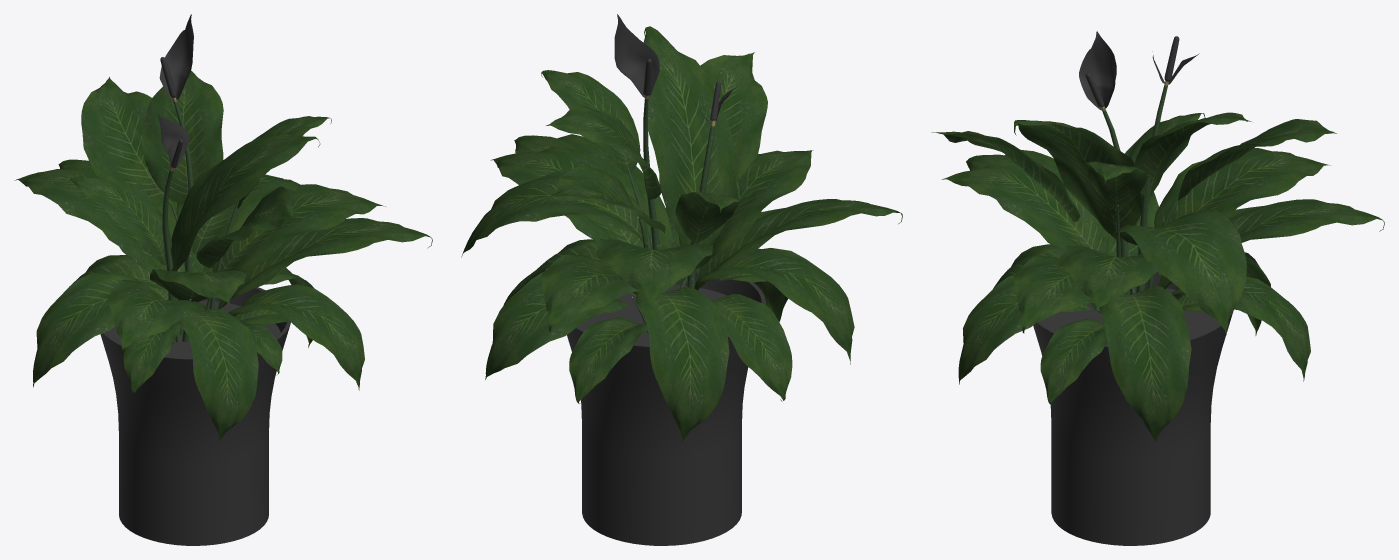
File: SM_MERGED_peaceLily.FBX
3 renders of one model, left to right at view 1: azimuth 30°, elevation 25°; view 2: azimuth 150°, elevation 25°; view 3: azimuth 270°, elevation 25°, orthographic. The views are drawn at different scales.
Visible parts, largest first — view 1: SM_MERGED_peaceLily; view 2: SM_MERGED_peaceLily; view 3: SM_MERGED_peaceLily.
Part boxes in pixels (x1,y1,x2,y2): SM_MERGED_peaceLily: [14, 14, 432, 545]; SM_MERGED_peaceLily: [461, 14, 902, 545]; SM_MERGED_peaceLily: [931, 31, 1384, 545].
Size of what is drawn, in the model's own units: 40.75 by 42.27 by 52.29.
